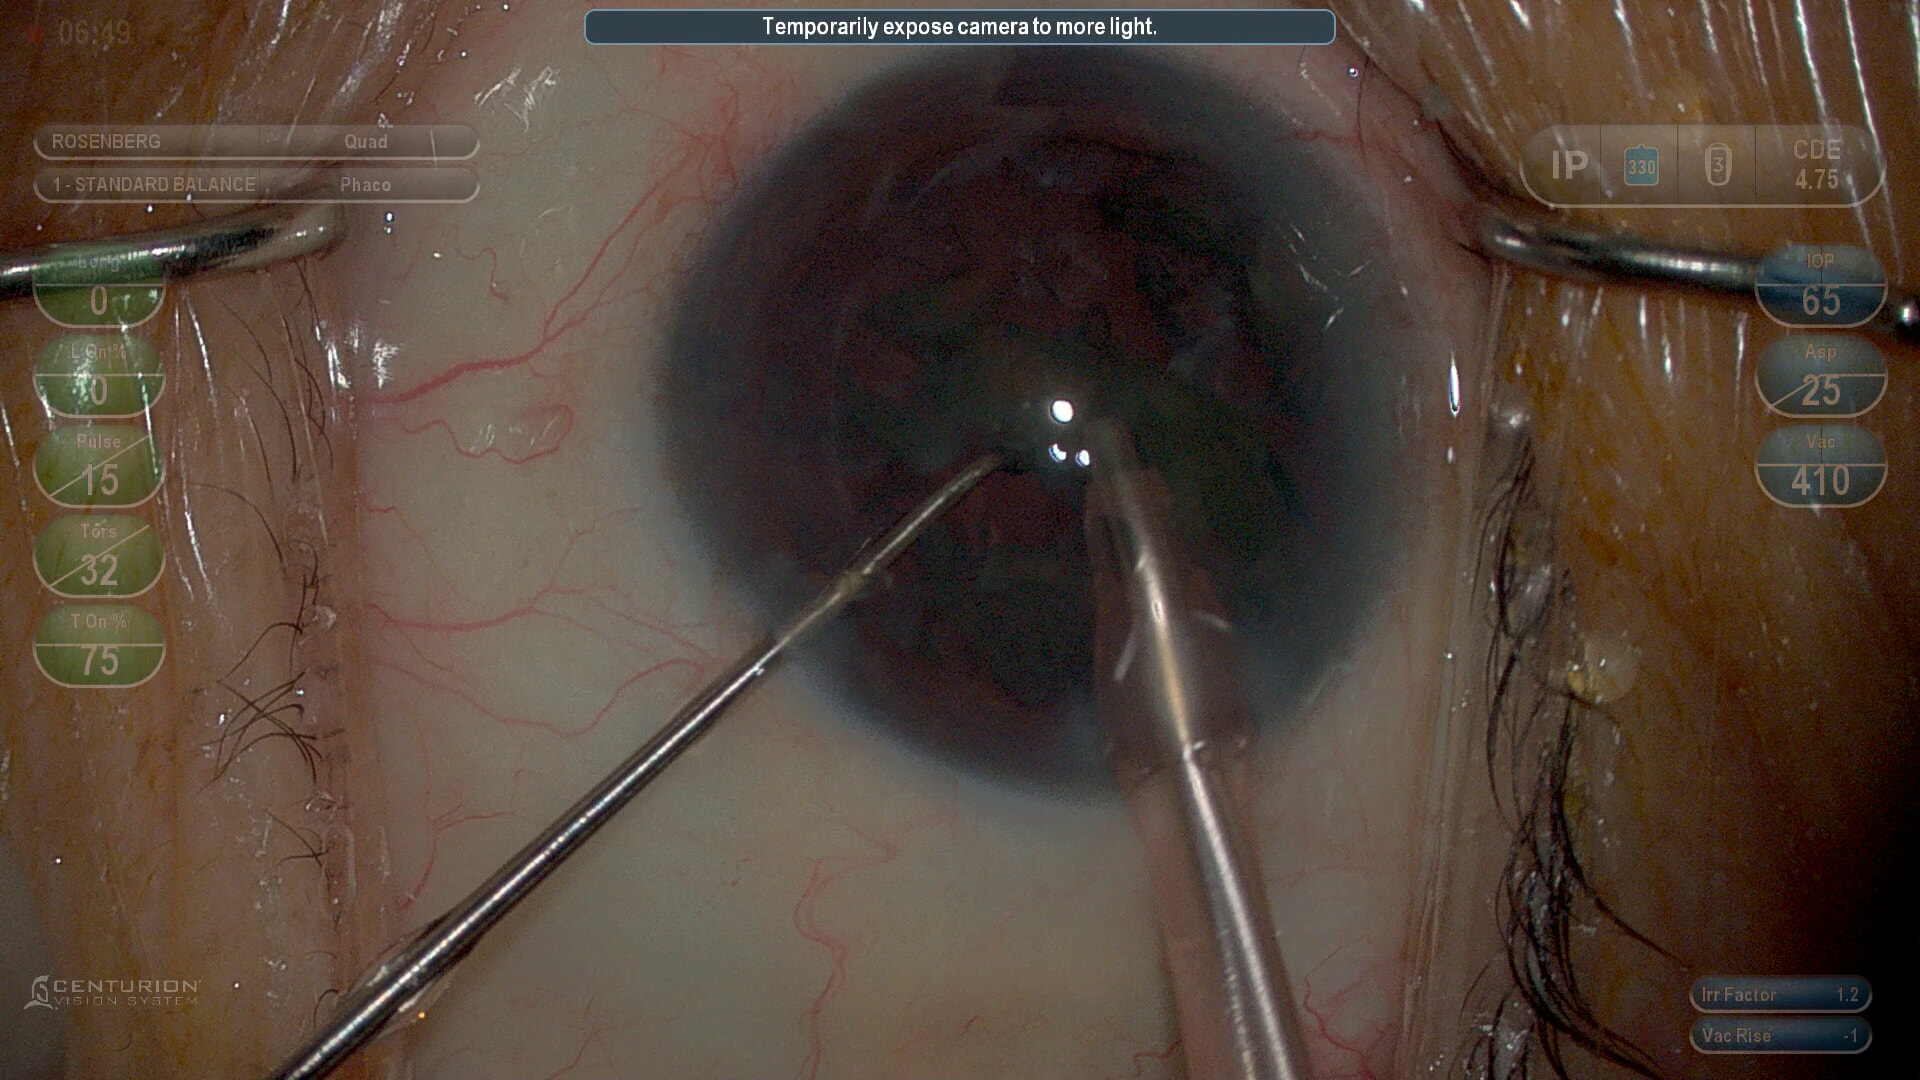iris: (689, 50, 1393, 780)
pupil: (791, 131, 1303, 661)
